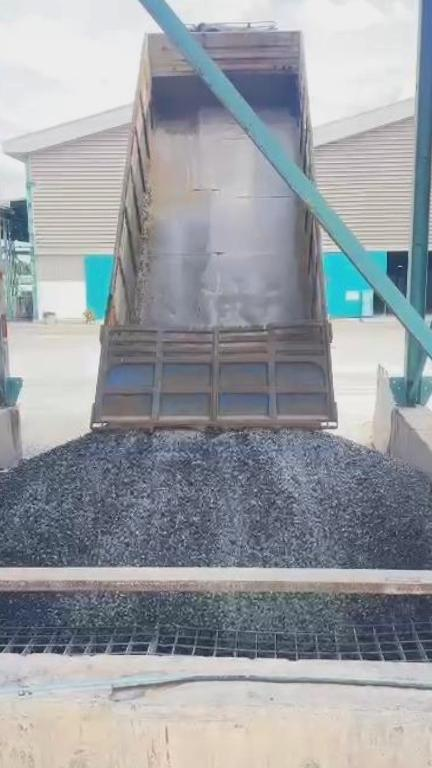gravel: (0, 431, 432, 569), (0, 595, 432, 629)
